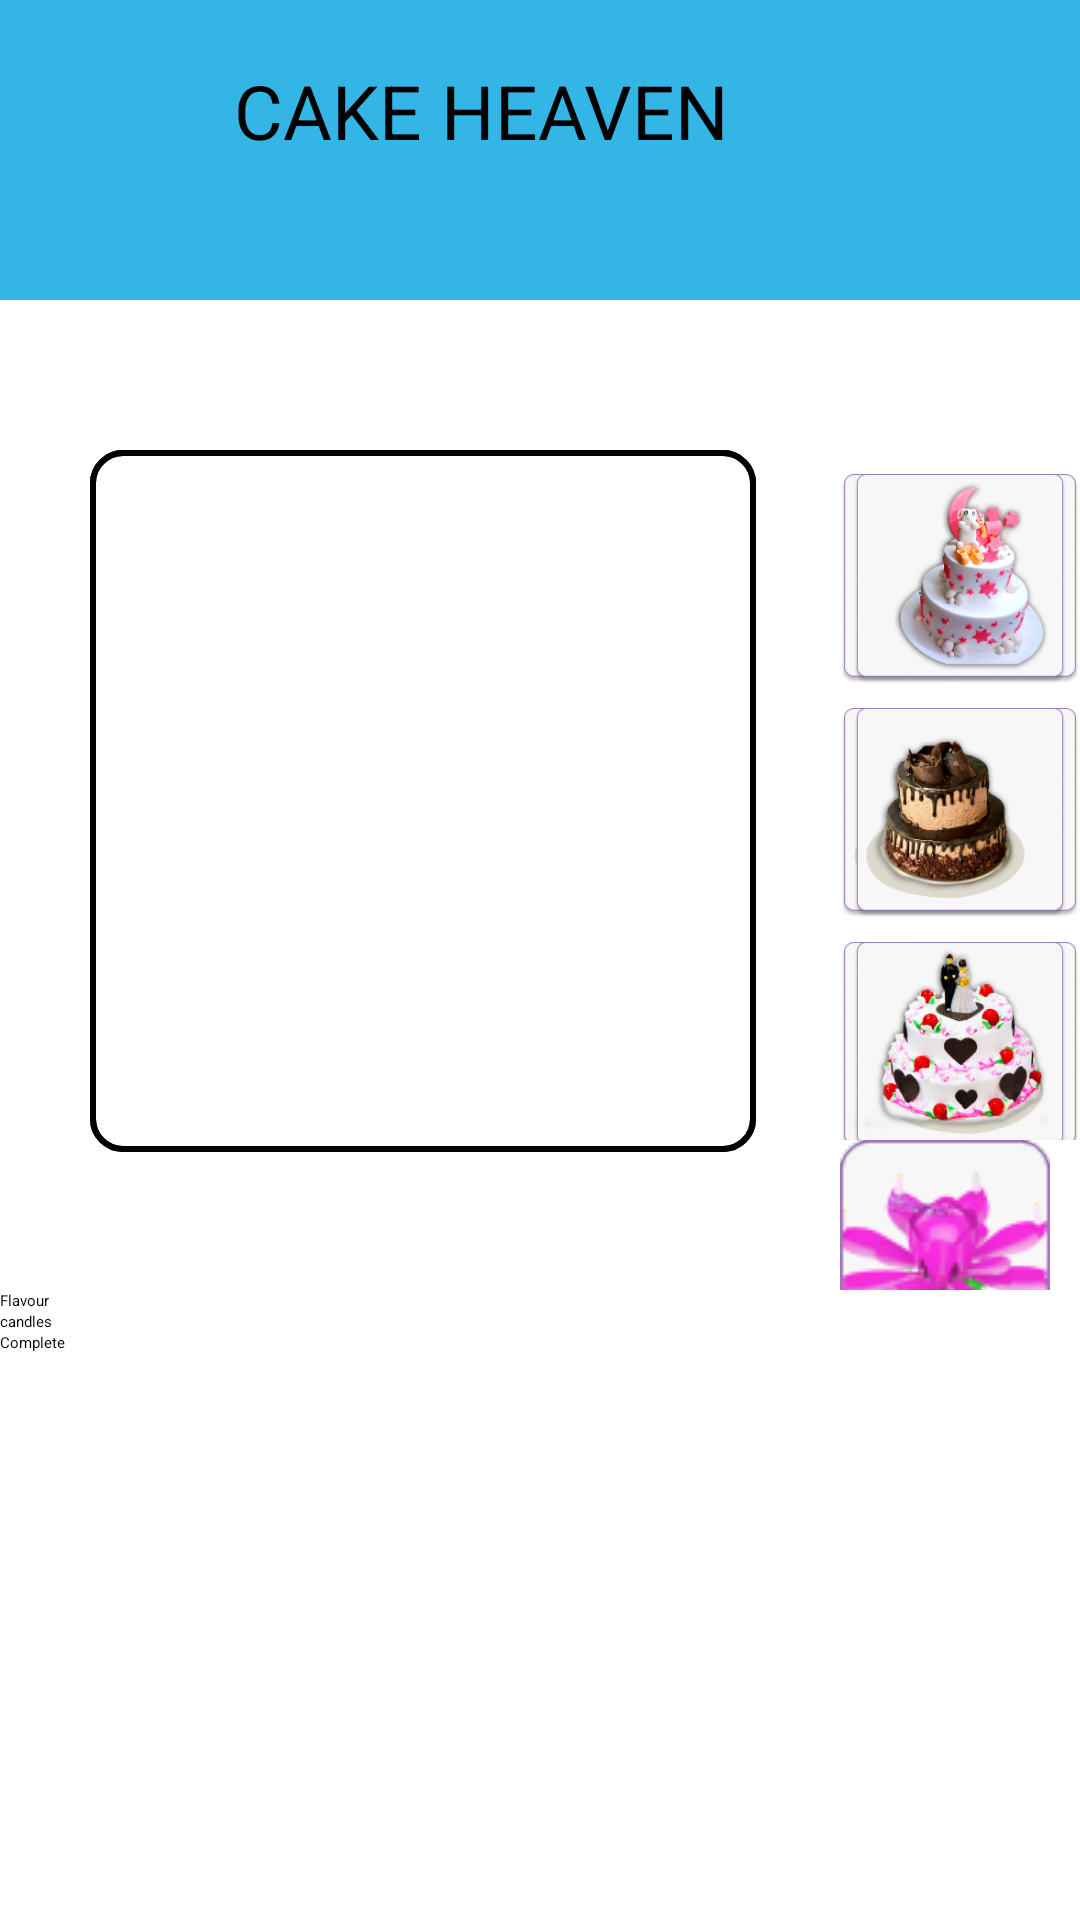

Icons on this 1080*1920 Android screen, each with its box as (x1, y1, x2, y2):
chocolatestepcake: (844, 708, 1077, 916)
lovestepcake: (878, 951, 1045, 1134)
strawberrystepcake: (844, 474, 1077, 682)
